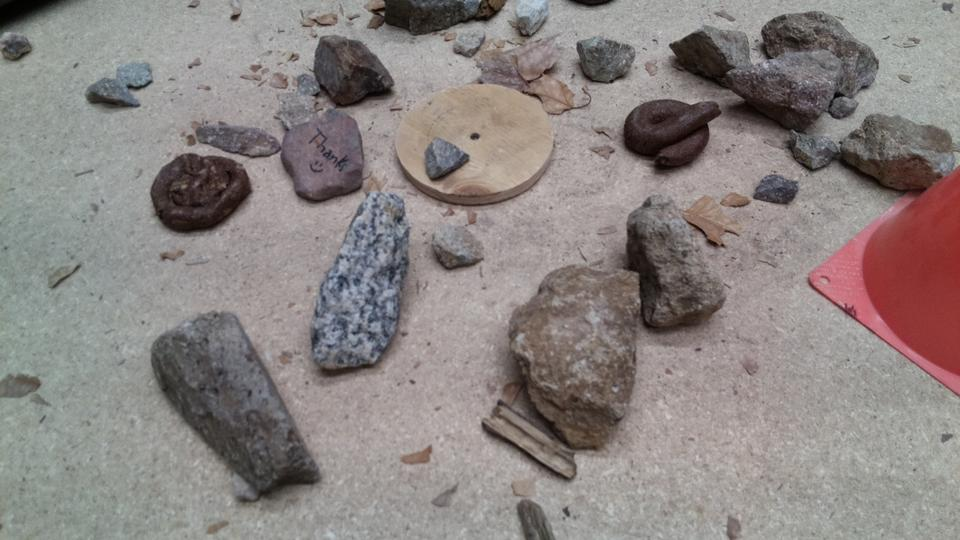poop: (149, 150, 257, 235), (621, 95, 723, 172)
